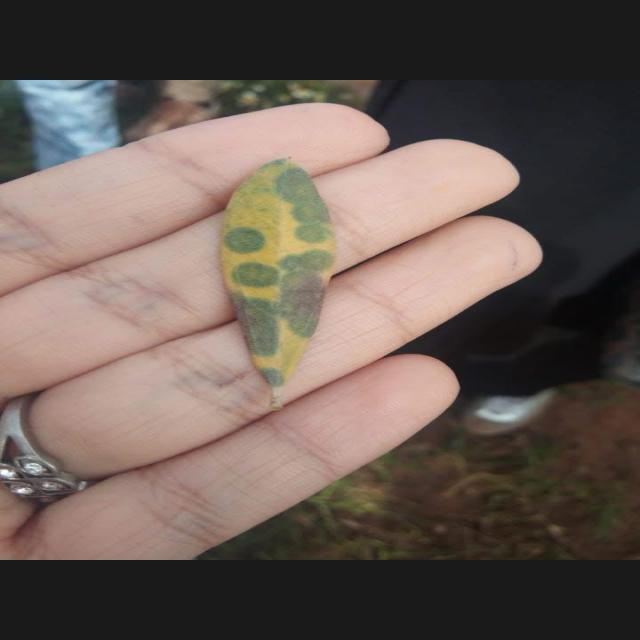Peacock Eye: (220, 159, 334, 410)
